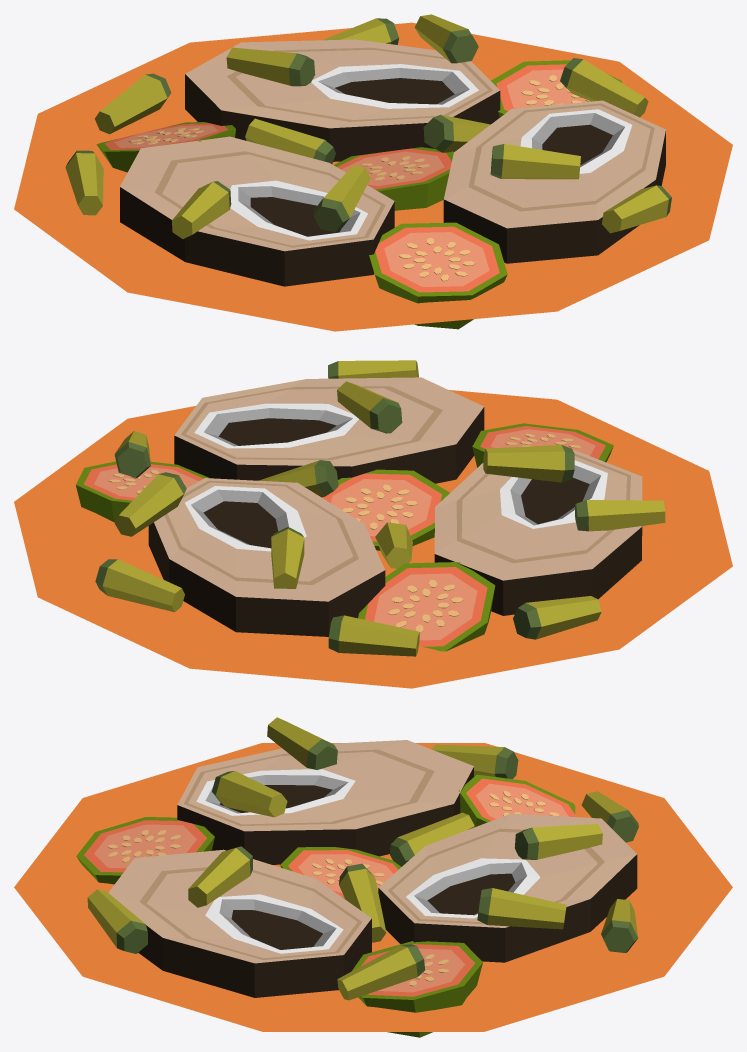
File: Sinigang sa bayabas.fbx
The picture shows the model from 3 angles, top to bottom: view 1: azimuth 30°, elevation 25°; view 2: azimuth 150°, elevation 25°; view 3: azimuth 270°, elevation 25°; orthographic projection. The views are drawn at different scales.
Parts seen in each view (by area): view 1: Sinigang sa Bayabas; view 2: Sinigang sa Bayabas; view 3: Sinigang sa Bayabas.
Part boxes in pixels (x1,y1,x2,y2): Sinigang sa Bayabas: (14, 14, 732, 331); Sinigang sa Bayabas: (14, 360, 732, 688); Sinigang sa Bayabas: (14, 717, 732, 1037).
Size of the model in its own units: 96 by 17.98 by 101.
